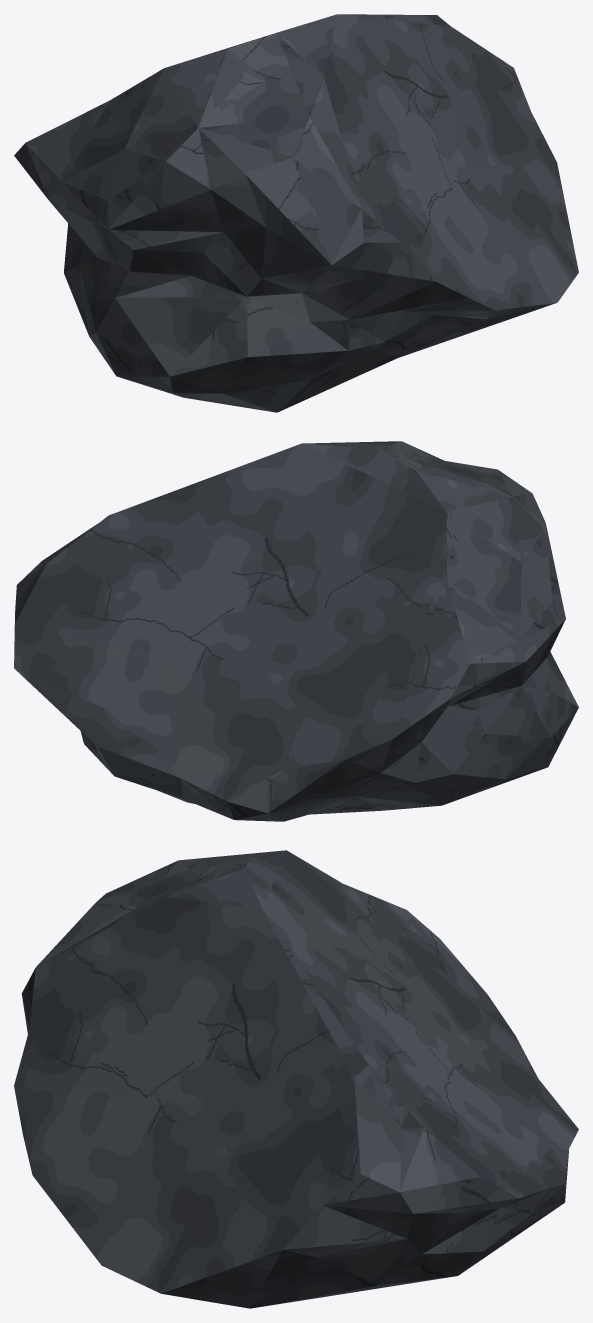
File: rock_boulder2_v1.fbx
3 renders of one model, top to bottom at view 1: azimuth 30°, elevation 25°; view 2: azimuth 150°, elevation 25°; view 3: azimuth 270°, elevation 25°, orthographic. The views are drawn at different scales.
Visible parts, largest first — view 1: rock_boulder2_v1_s2_lod0, rock_boulder2_v1_s3_lod0, rock_boulder2_v1_s0_lod0, rock_boulder2_v1_s1_lod0; view 2: rock_boulder2_v1_s1_lod0, rock_boulder2_v1_s3_lod0, rock_boulder2_v1_s2_lod0, rock_boulder2_v1_s0_lod0; view 3: rock_boulder2_v1_s0_lod0, rock_boulder2_v1_s3_lod0, rock_boulder2_v1_s2_lod0, rock_boulder2_v1_s1_lod0.
Boxes of the visible parts, bbox=[...] form: rock_boulder2_v1_s2_lod0: bbox=[42, 74, 542, 412]; rock_boulder2_v1_s3_lod0: bbox=[118, 14, 469, 169]; rock_boulder2_v1_s0_lod0: bbox=[455, 39, 578, 333]; rock_boulder2_v1_s1_lod0: bbox=[14, 103, 104, 313]; rock_boulder2_v1_s1_lod0: bbox=[82, 583, 511, 821]; rock_boulder2_v1_s3_lod0: bbox=[68, 441, 456, 655]; rock_boulder2_v1_s2_lod0: bbox=[407, 444, 578, 793]; rock_boulder2_v1_s0_lod0: bbox=[14, 530, 157, 763]; rock_boulder2_v1_s0_lod0: bbox=[84, 1100, 555, 1308]; rock_boulder2_v1_s3_lod0: bbox=[160, 850, 472, 1106]; rock_boulder2_v1_s2_lod0: bbox=[14, 852, 346, 1242]; rock_boulder2_v1_s1_lod0: bbox=[346, 885, 578, 1228].
Size of what is drawn, in the model's own units: 305 by 196 by 288.
